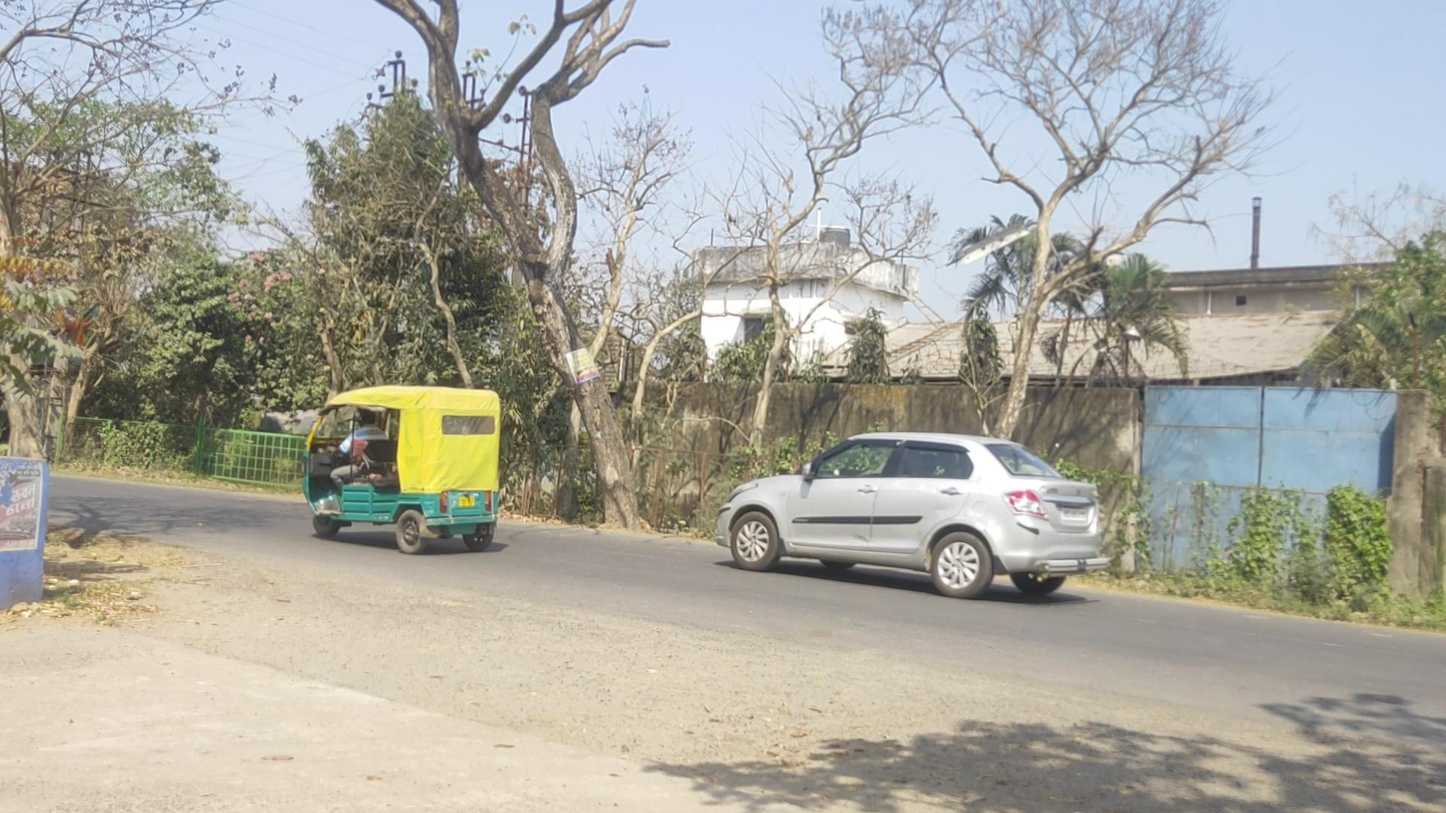Auto: (300, 385, 502, 554)
car: (716, 431, 1110, 599)
